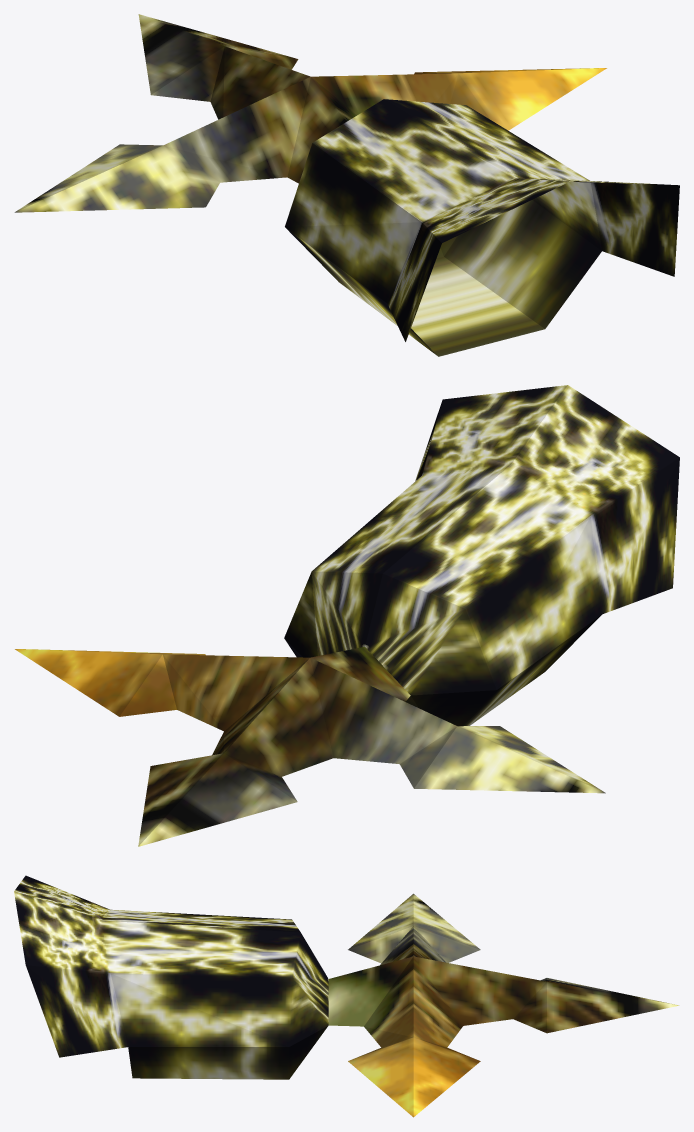
File: twinblade101_5.obj
3 renders of one model, top to bottom at view 1: azimuth 30°, elevation 25°; view 2: azimuth 150°, elevation 25°; view 3: azimuth 270°, elevation 25°, orthographic. The views are drawn at different scales.
Parts seen in each view (by area): view 1: MDL_cwdhkn01_5r; view 2: MDL_cwdhkn01_5r; view 3: MDL_cwdhkn01_5r.
Part boxes in pixels (x1,y1,x2,y2): MDL_cwdhkn01_5r: (14, 14, 679, 356); MDL_cwdhkn01_5r: (15, 385, 679, 846); MDL_cwdhkn01_5r: (14, 875, 679, 1117).
Size of the model in its own units: 0.4525 by 0.1587 by 0.5687.
